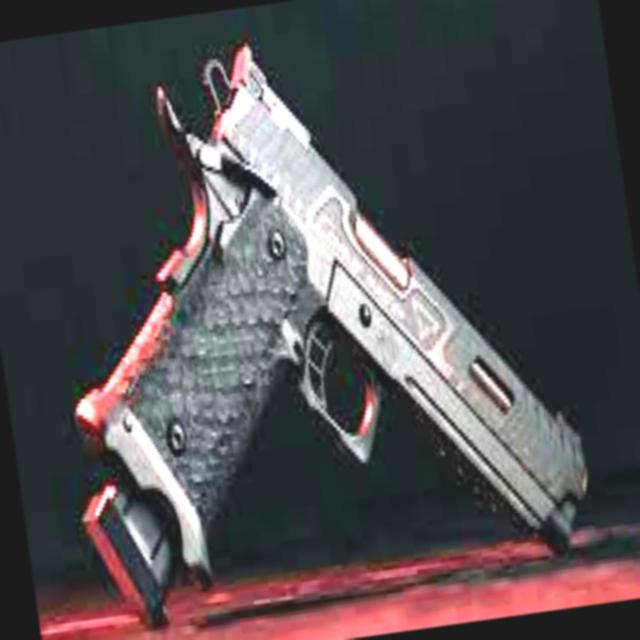semi automatic: (14, 0, 611, 640)
